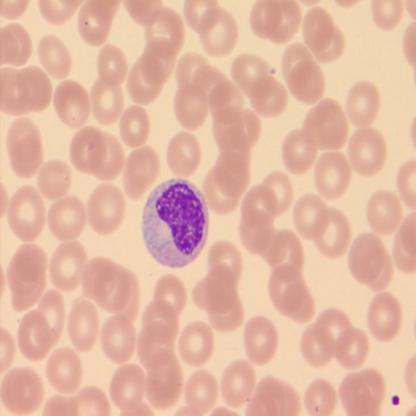Metamyelocyte: (140, 172, 210, 271)
